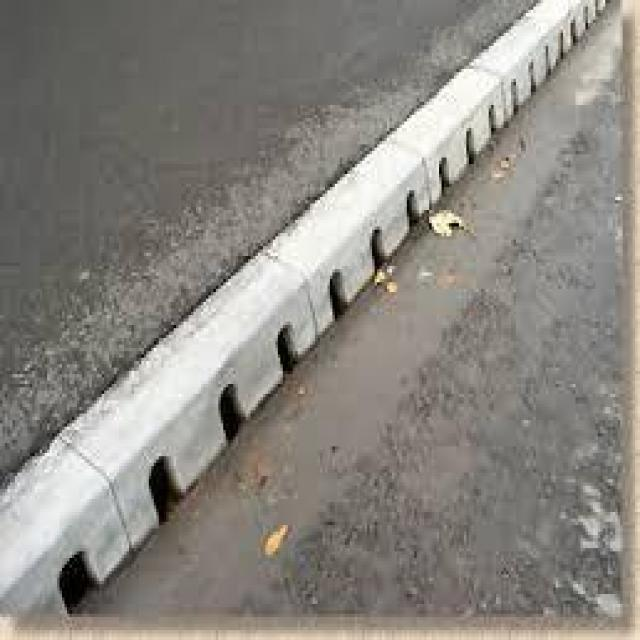curb: (13, 356, 238, 619), (161, 272, 347, 451), (279, 146, 438, 331), (386, 66, 508, 222), (467, 1, 608, 112)
